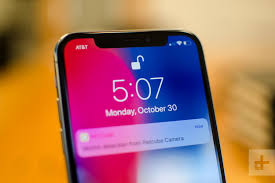iphone: (50, 27, 230, 183)
iphone10: (48, 26, 228, 182)
